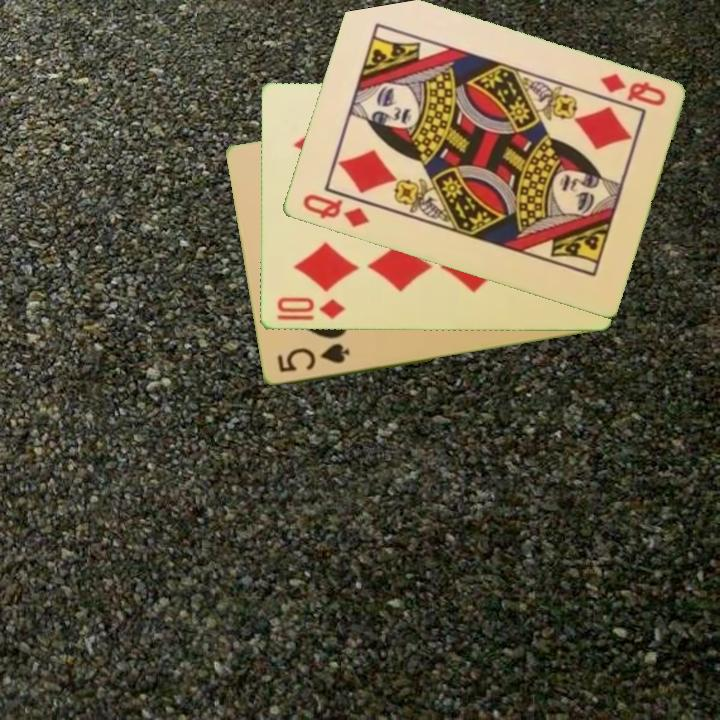10d: (274, 294, 348, 322)
5s: (273, 340, 353, 376)
Qd: (299, 190, 372, 231), (596, 70, 668, 110)
